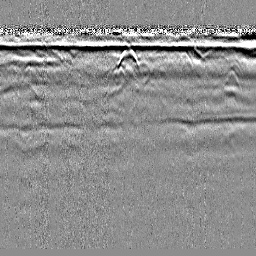cavity: (114, 48, 139, 73)
